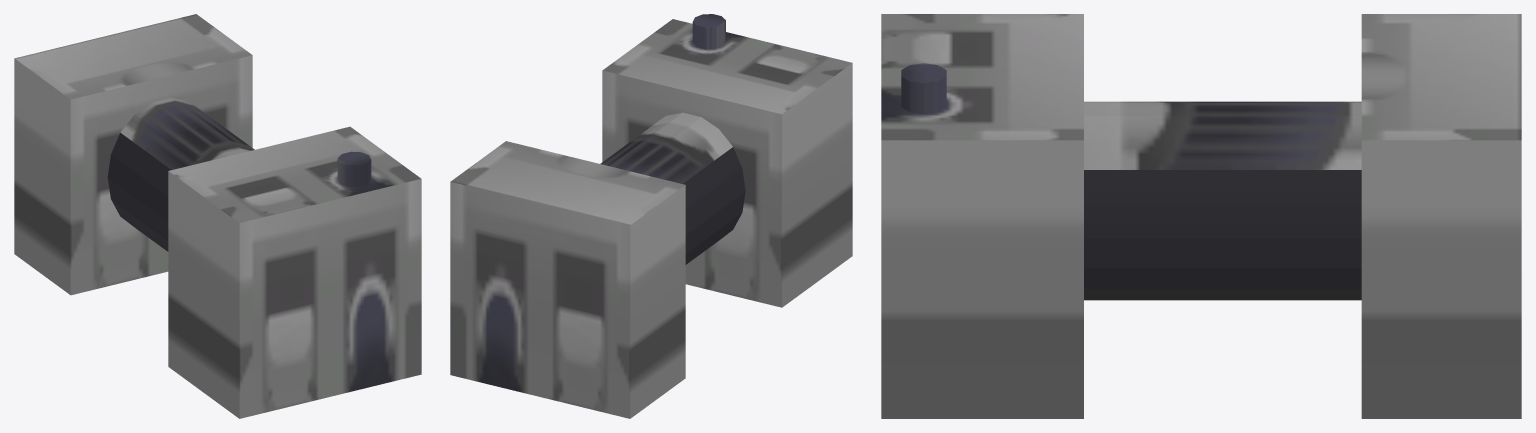
File: Building_DeathrestAccelerator.glb
The picture shows the model from 3 angles, left to right: view 1: azimuth 30°, elevation 25°; view 2: azimuth 150°, elevation 25°; view 3: azimuth 270°, elevation 25°; orthographic projection. The views are drawn at different scales.
Visible parts, largest first — view 1: DeathrestAccelerator; view 2: DeathrestAccelerator; view 3: DeathrestAccelerator.
Boxes of the visible parts, x1,y1,x2,y2 form: DeathrestAccelerator: (14,14,421,418); DeathrestAccelerator: (450,14,852,418); DeathrestAccelerator: (881,14,1521,418).
Size of the model in its own units: 0.875 by 1 by 1.88.
1 material, 1 textured.
